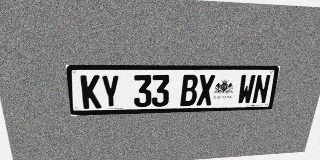3: (134, 75, 152, 107), (152, 75, 170, 107)
B: (180, 75, 199, 106)
K: (80, 75, 102, 109)
N: (252, 74, 271, 104)
W: (237, 74, 256, 104)
X: (197, 75, 215, 106)
Y: (100, 75, 120, 108)
